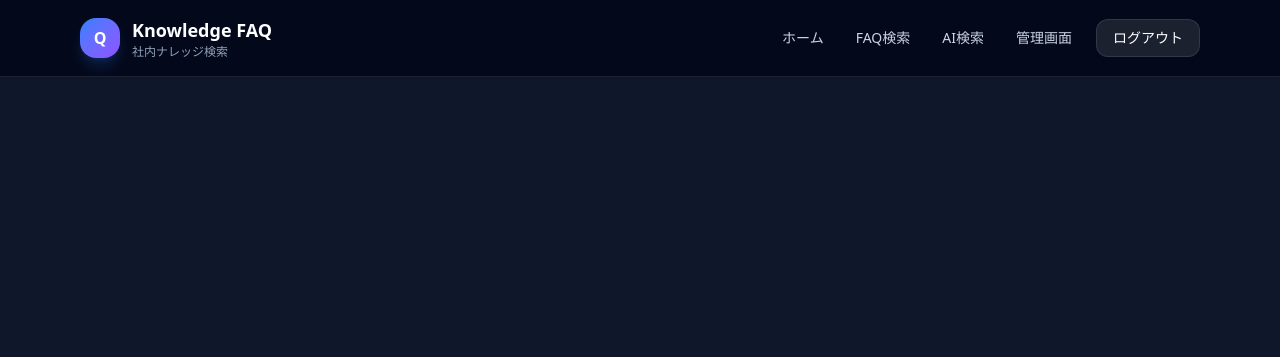
Header › ログアウトボタン押下で確認モーダルが表示される
Step 1. Click the button "ログアウト" → [1148, 38], box [1096,19,1200,57]
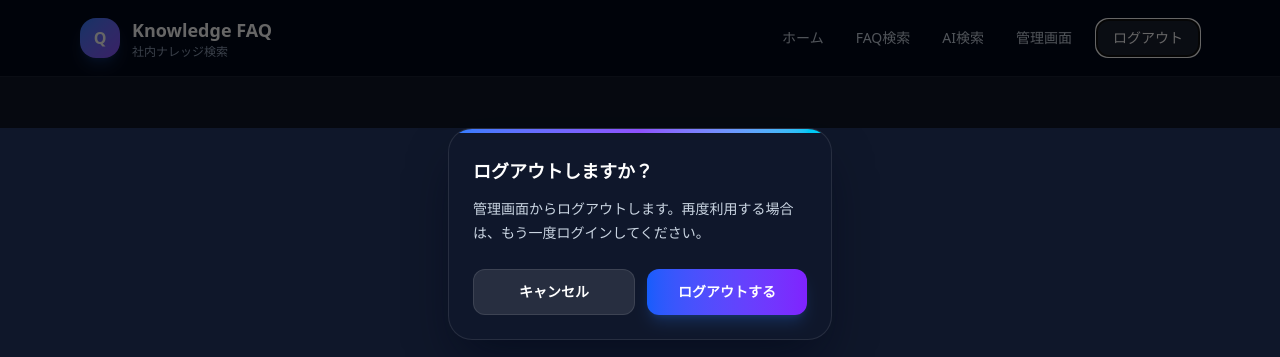
Expected: the heading "ログアウトしますか？" is shown, [473,159,653,183]
Expected: the text "管理画面からログアウトします。再度利用する場合は、もう一度ログインしてください。" is shown, [473,197,807,245]
